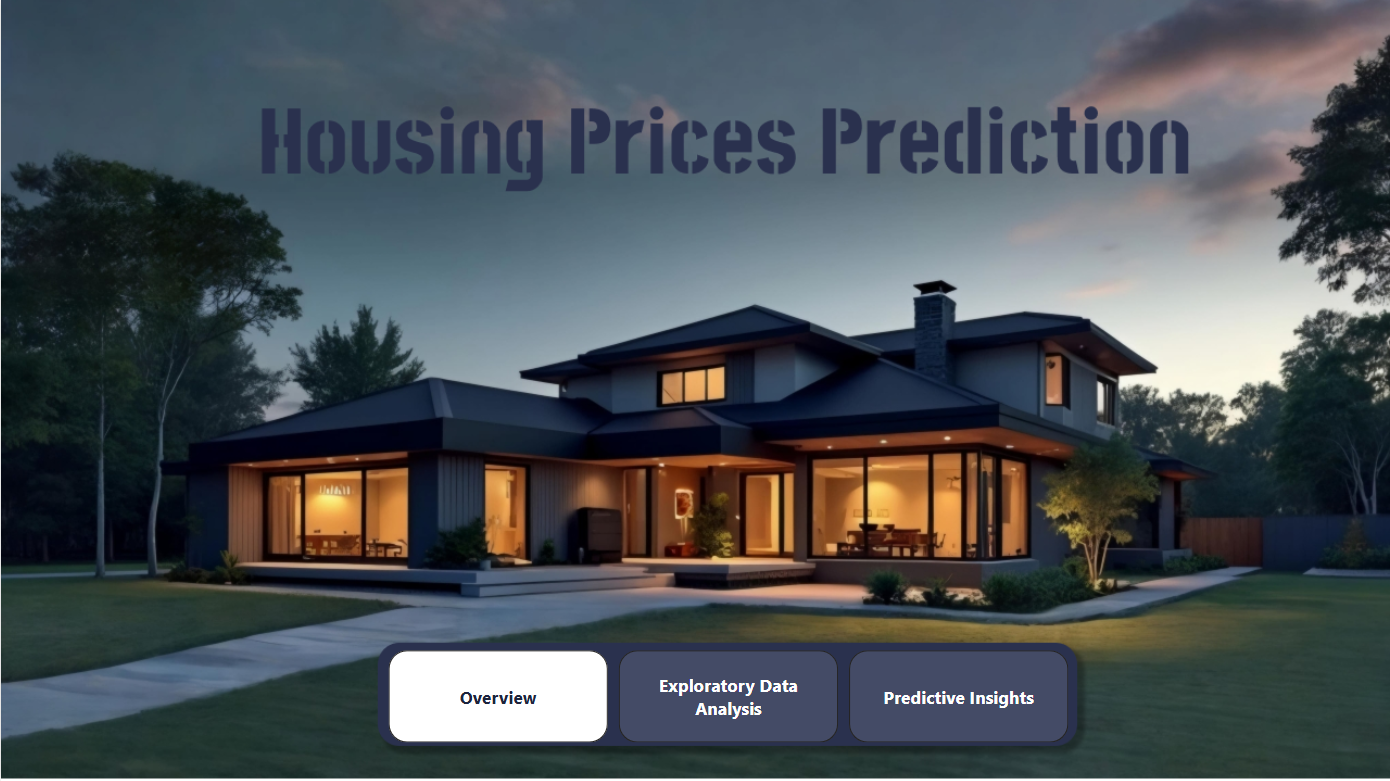

This screenshot's page, from the dashboard's own definition file:
{"tool":"powerbi","page":{"name":"Overview","canvas":[1280,720],"ordinal":0},"visuals":[{"type":"pageNavigator","box":[357.1,600,628.6,85.7],"z":1}]}

Visuals, with their boxes in screenshot pixels (x1, y1, x2, y2), scaled from the page's 1280x720 canvas onto the 1390x781 screenshot:
pageNavigator: left=388, top=651, right=1070, bottom=744
